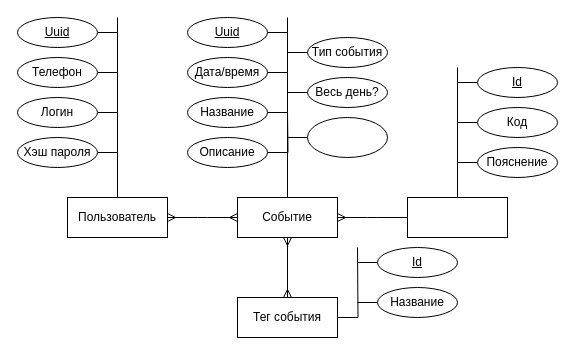
The diagram is 575 pixels wide and 355 high, and some of its shapes have lost their labels. The centre of each missing label's shape, as x and y in pixels:
Права доступа: (x=347, y=137)
Право доступа события: (x=457, y=217)
